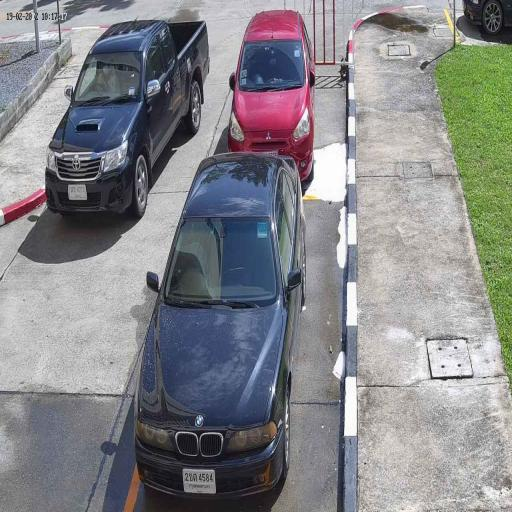car: (133, 153, 307, 501), (44, 16, 210, 222), (227, 8, 316, 183)
